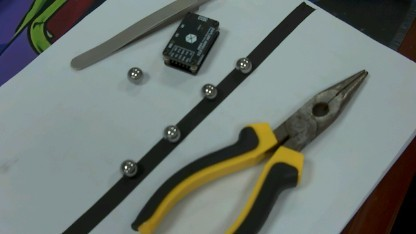ironball: (116, 155, 139, 175), (198, 81, 218, 103), (122, 62, 142, 83), (230, 56, 253, 74), (160, 120, 179, 140)
